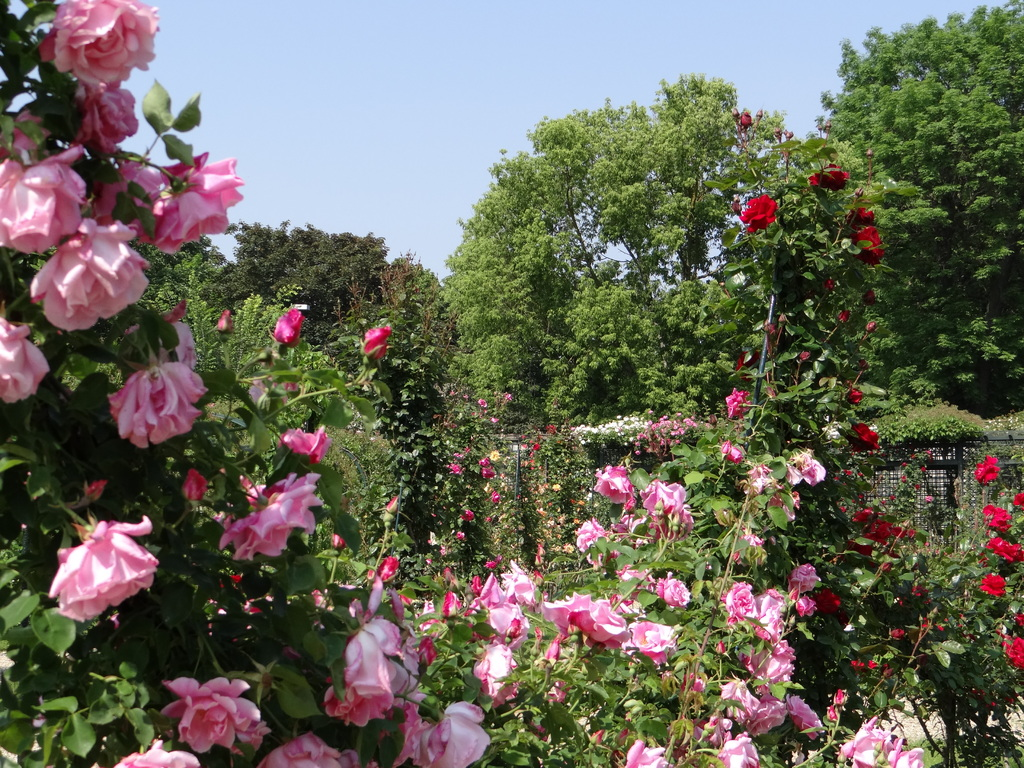Tree: (0, 0, 928, 768), (19, 0, 1024, 433)
